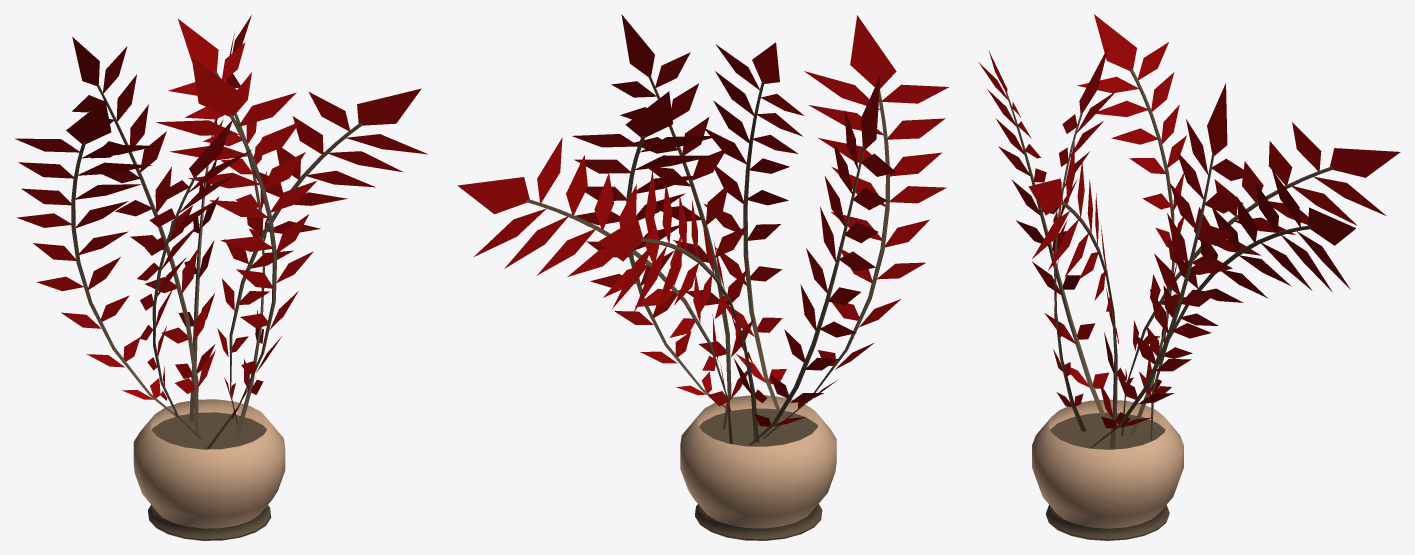
The model's file is plante_rouge.fbx.
The picture shows the model from 3 angles, left to right: view 1: azimuth 30°, elevation 25°; view 2: azimuth 150°, elevation 25°; view 3: azimuth 270°, elevation 25°; orthographic projection. The views are drawn at different scales.
Visible parts, largest first — view 1: pPlane29; view 2: pPlane29; view 3: pPlane29.
Part boxes in pixels (x1=…): pPlane29: x1=15, y1=15, x2=427, y2=540; pPlane29: x1=457, y1=14, x2=948, y2=540; pPlane29: x1=978, y1=14, x2=1400, y2=540.
Bounding box in the file's own units: 51.73 × 66.04 × 54.91.
